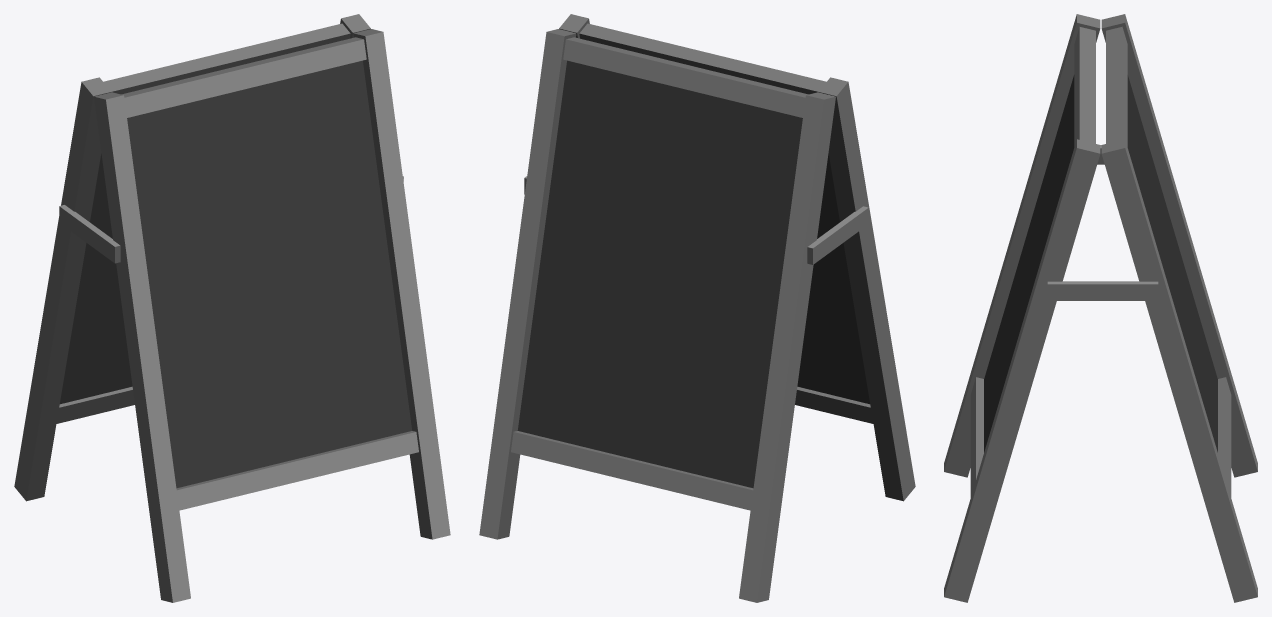
Rendered from SM_SiignFolding_03.fbx.
3 views of the same model, side by side, from view 1: azimuth 30°, elevation 25°; view 2: azimuth 150°, elevation 25°; view 3: azimuth 270°, elevation 25° (orthographic).
Parts seen in each view (by area): view 1: SM_SiignFolding_03; view 2: SM_SiignFolding_03; view 3: SM_SiignFolding_03.
Part boxes in pixels (bbox=[...]): SM_SiignFolding_03: bbox=[14, 14, 450, 602]; SM_SiignFolding_03: bbox=[479, 14, 915, 602]; SM_SiignFolding_03: bbox=[944, 14, 1257, 602].
Size of the model in its own units: 1.06 by 1.62 by 1.01.
